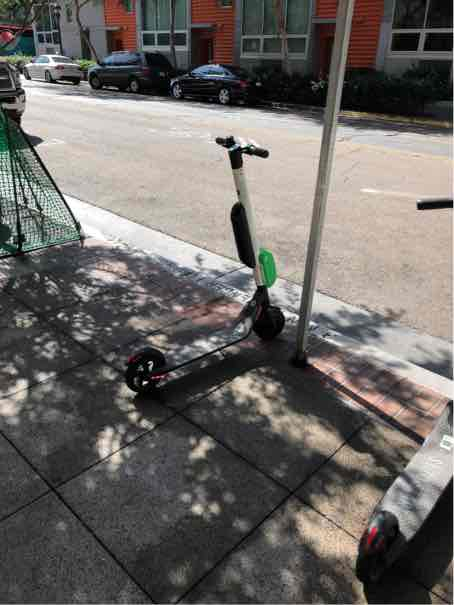scooter: (116, 123, 288, 404)
